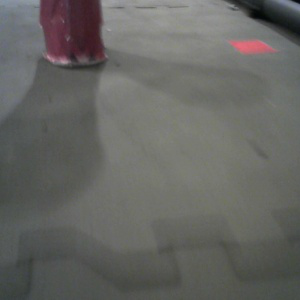Middle: (39, 1, 108, 66)
